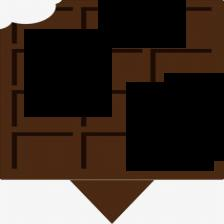brown: (1, 0, 223, 207), (72, 181, 153, 224), (151, 133, 211, 169)
